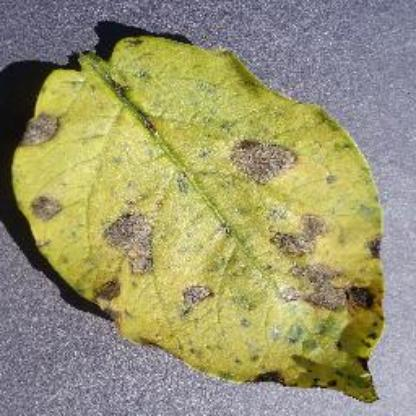Early-Blight: (11, 21, 391, 404)
